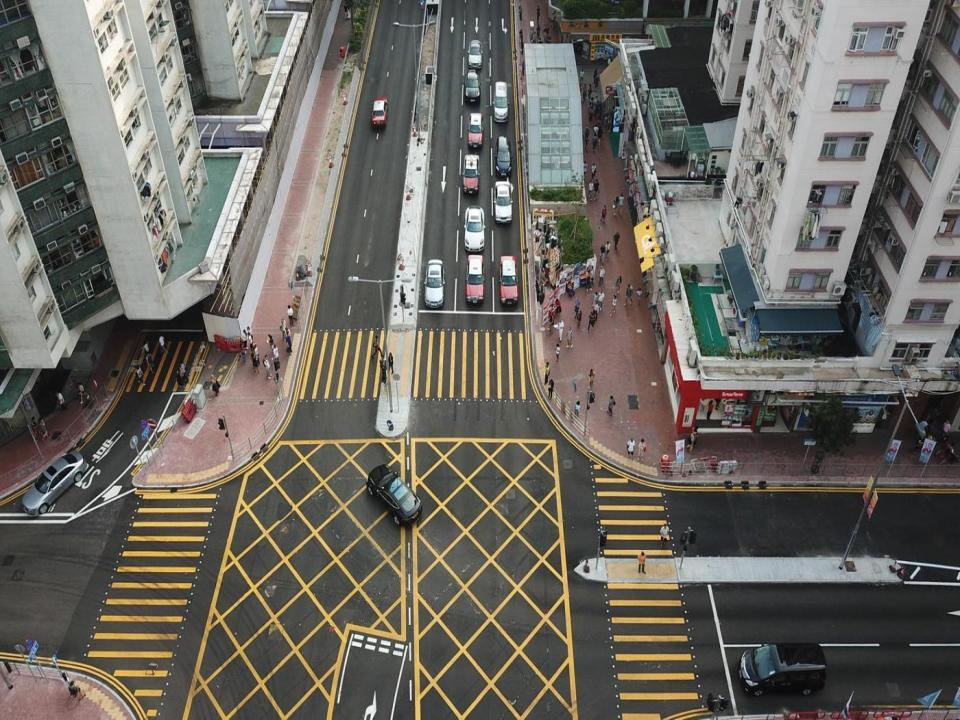car: (22, 450, 86, 516), (367, 464, 421, 526), (422, 258, 444, 308), (463, 206, 485, 250), (466, 254, 486, 302), (500, 255, 518, 305), (494, 181, 513, 225), (462, 152, 480, 194), (467, 111, 484, 149), (464, 70, 482, 103), (370, 97, 388, 128), (467, 38, 482, 68)
van: (738, 642, 825, 697), (495, 136, 512, 178), (493, 80, 510, 122)
